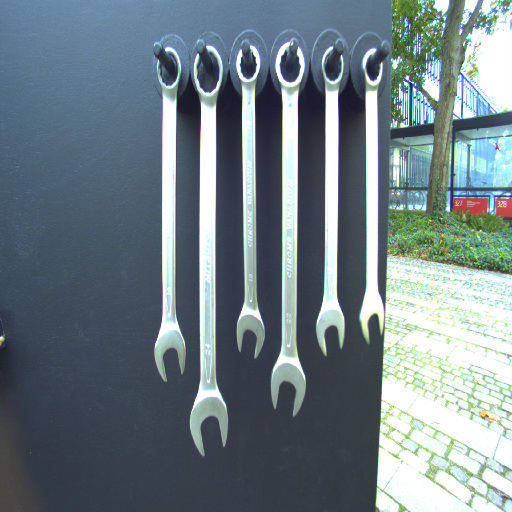bottom: (186, 389, 235, 456), (269, 355, 307, 416), (151, 329, 190, 384), (234, 305, 267, 362), (313, 304, 347, 358), (357, 291, 387, 344)
top: (191, 43, 226, 104), (272, 40, 307, 96), (153, 45, 186, 94), (317, 43, 346, 92), (234, 42, 264, 89), (360, 45, 385, 91)
